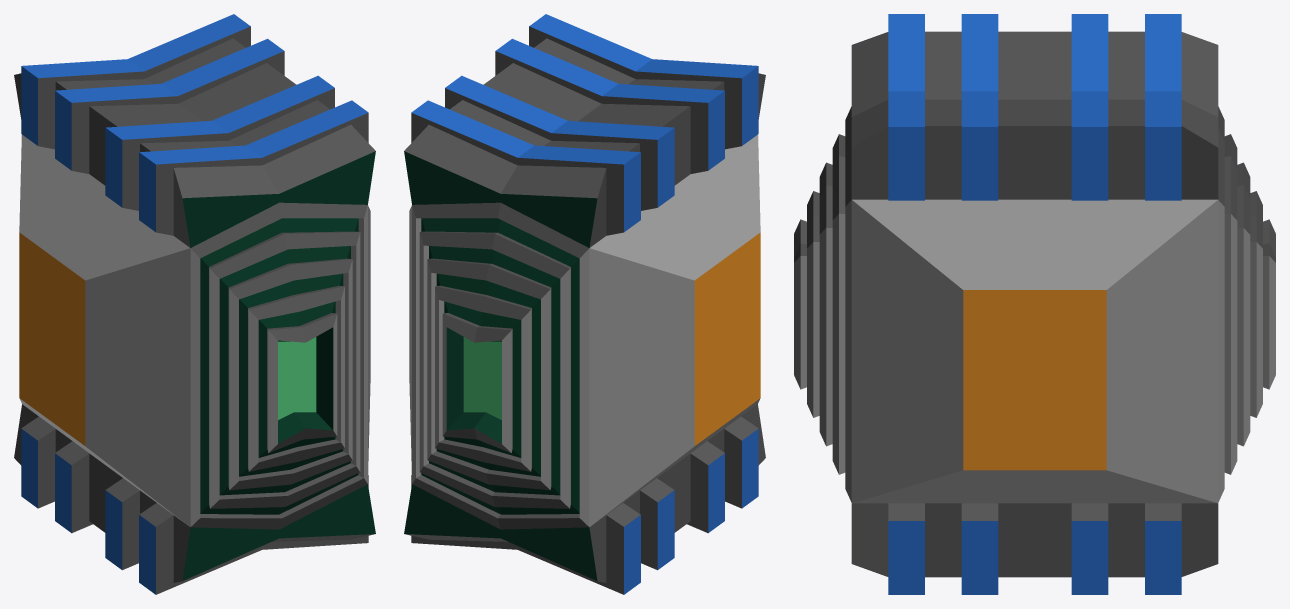
Rendered from leg.obj.
3 renders of one model, left to right at view 1: azimuth 30°, elevation 25°; view 2: azimuth 150°, elevation 25°; view 3: azimuth 270°, elevation 25°, orthographic. The views are drawn at different scales.
Visible parts, largest first — view 1: LegUpper; view 2: LegUpper; view 3: LegUpper.
Part boxes in pixels (x1,y1,x2,y2): LegUpper: [14, 14, 375, 594]; LegUpper: [404, 14, 765, 594]; LegUpper: [794, 14, 1275, 594].
Bounding box in the file's own units: 0.3669 × 0.5288 × 0.4932.
